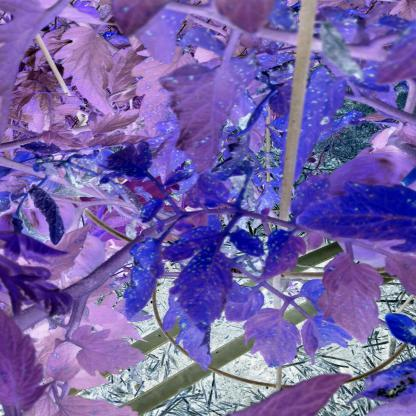Tomato mold leaf: (318, 255, 384, 354), (65, 324, 154, 374)
